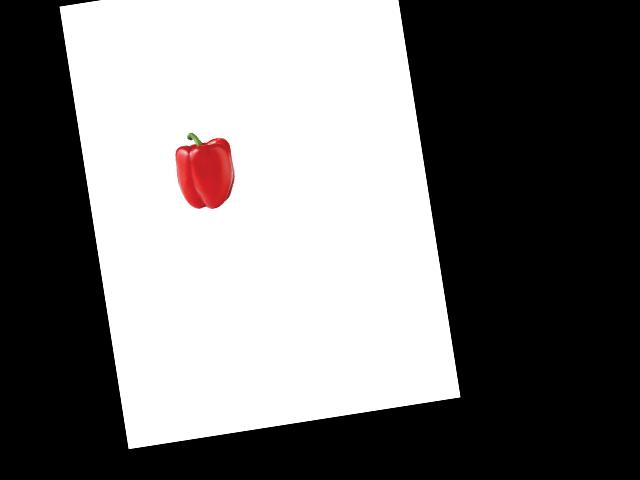bell_pepper: (167, 126, 243, 216)
